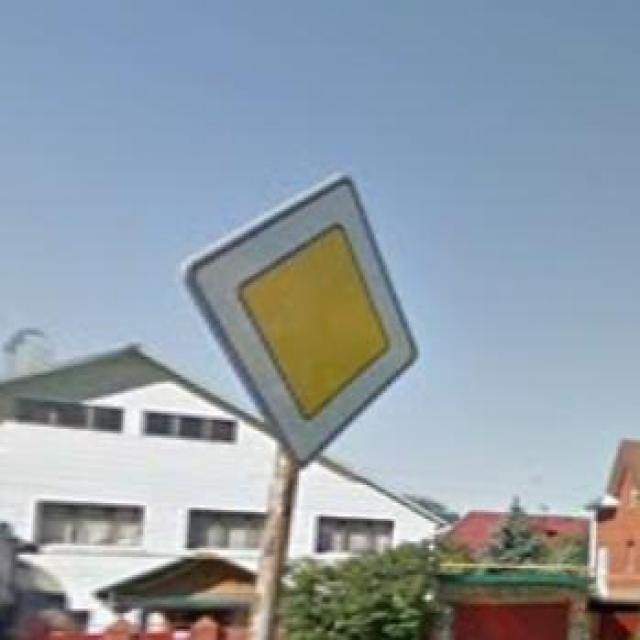traffic_sign: (180, 168, 420, 465)
